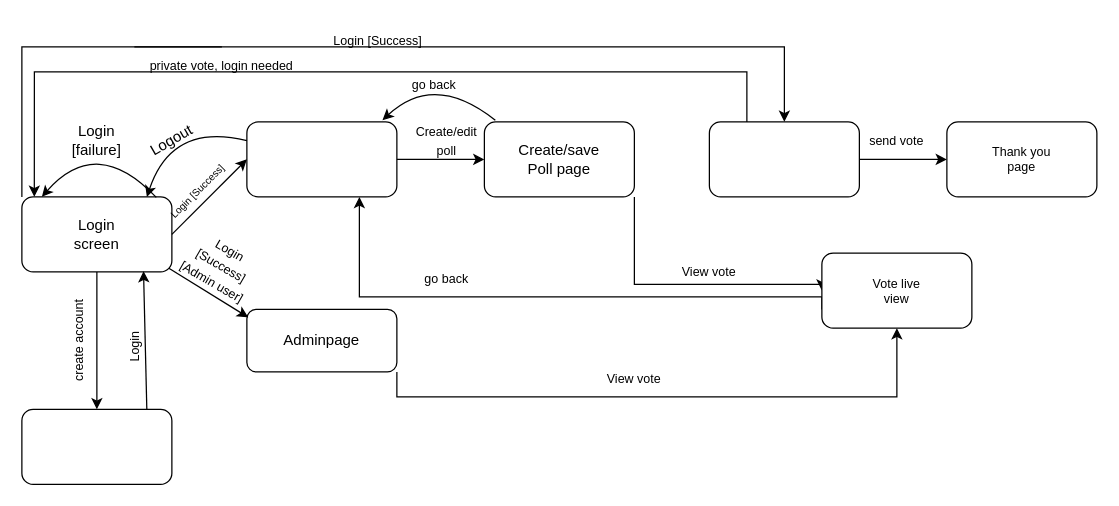
The diagram is 1119 pixels wide and 506 high, and some of its shapes have lost their labels. Each missing label, with the centre of its shape:
Create user: the point at 96,446
Userpage: the point at 321,159
Voting page: the point at 783,159
